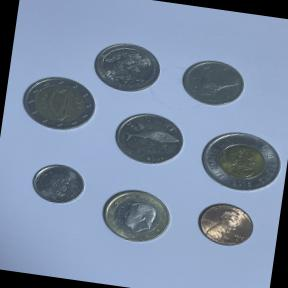coin: (190, 123, 288, 199), (92, 180, 182, 252), (16, 68, 101, 136), (107, 104, 189, 172), (88, 36, 166, 98), (185, 194, 259, 253), (23, 154, 90, 210)
